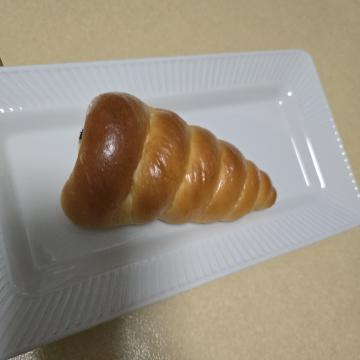cream horn: (84, 72, 252, 310)
